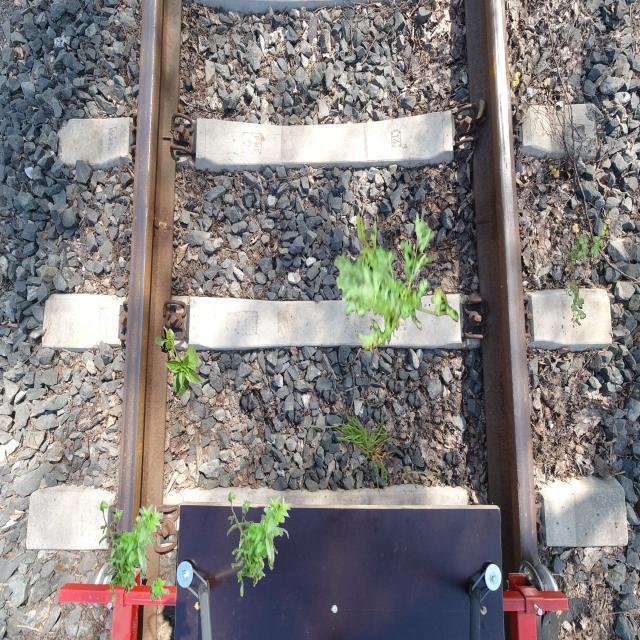Plant: (334, 210, 459, 357), (298, 408, 442, 498), (99, 499, 164, 606), (227, 489, 292, 596), (562, 224, 610, 328), (155, 327, 203, 398), (150, 578, 170, 603)
